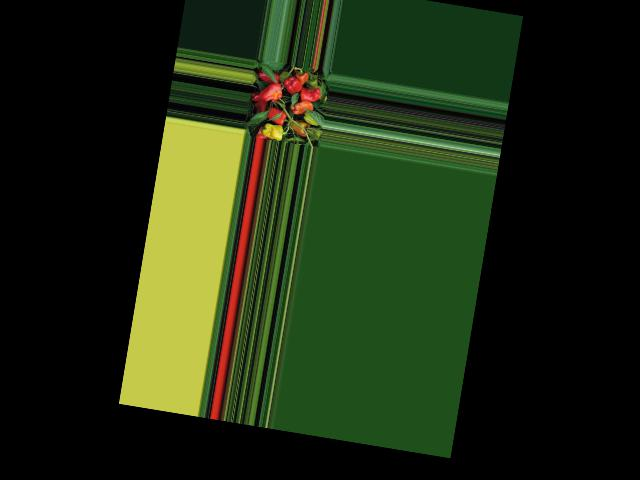bell_pepper: (297, 69, 309, 84)
